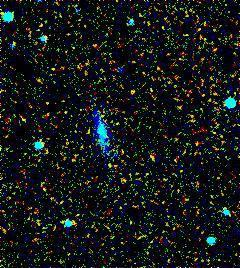star: (120, 77, 150, 107)
